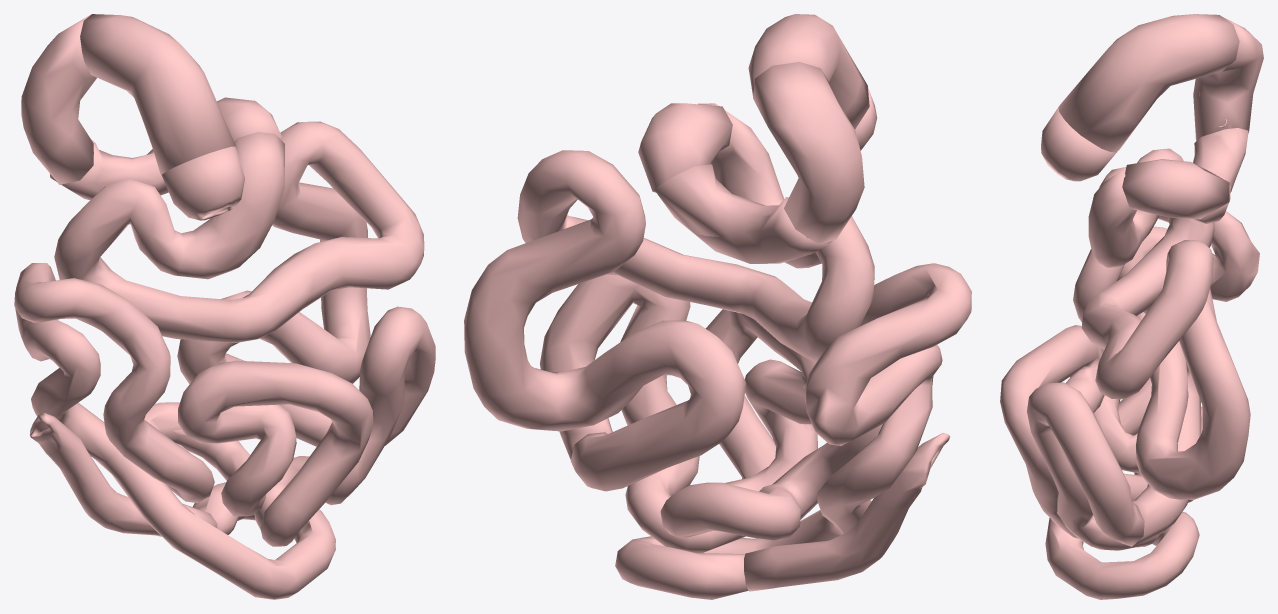
The model's file is vh_f_small_intestine-20.fbx.
3 views of the same model, side by side, from view 1: azimuth 30°, elevation 25°; view 2: azimuth 150°, elevation 25°; view 3: azimuth 270°, elevation 25° (orthographic). The views are drawn at different scales.
Visible parts, largest first — view 1: VH_F_ileum, VH_F_jejenum, VH_F_duodenum_superior, VH_F_duodenum_descending, VH_F_ileum_terminal, VH_F_duodenal_ampulla, VH_F_duodenum_horizontal, VH_F_duodenum_ascending; view 2: VH_F_ileum, VH_F_jejenum, VH_F_duodenum_descending, VH_F_ileum_terminal, VH_F_duodenum_horizontal, VH_F_duodenum_superior, VH_F_duodenum_ascending; view 3: VH_F_jejenum, VH_F_ileum, VH_F_duodenum_superior, VH_F_duodenum_ascending, VH_F_duodenum_descending, VH_F_duodenal_ampulla, VH_F_duodenum_horizontal.
Boxes of the visible parts, left/top/right/bottom form: VH_F_ileum: left=14, top=263, right=435, bottom=599; VH_F_jejenum: left=54, top=121, right=424, bottom=446; VH_F_duodenum_superior: left=80, top=14, right=235, bottom=175; VH_F_duodenum_descending: left=21, top=14, right=96, bottom=184; VH_F_ileum_terminal: left=29, top=413, right=217, bottom=536; VH_F_duodenal_ampulla: left=162, top=146, right=244, bottom=220; VH_F_duodenum_horizontal: left=50, top=138, right=168, bottom=200; VH_F_duodenum_ascending: left=217, top=97, right=281, bottom=141; VH_F_ileum: left=540, top=263, right=971, bottom=599; VH_F_jejenum: left=464, top=103, right=874, bottom=491; VH_F_duodenum_descending: left=753, top=61, right=864, bottom=244; VH_F_ileum_terminal: left=744, top=433, right=950, bottom=591; VH_F_duodenum_horizontal: left=654, top=164, right=832, bottom=263; VH_F_duodenum_superior: left=748, top=14, right=869, bottom=129; VH_F_duodenum_ascending: left=638, top=103, right=732, bottom=192; VH_F_jejenum: left=1081, top=148, right=1250, bottom=545; VH_F_ileum: left=1000, top=167, right=1259, bottom=599; VH_F_duodenum_superior: left=1058, top=14, right=1239, bottom=152; VH_F_duodenum_ascending: left=1122, top=159, right=1229, bottom=219; VH_F_duodenum_descending: left=1193, top=14, right=1263, bottom=141; VH_F_duodenal_ampulla: left=1041, top=108, right=1117, bottom=181; VH_F_duodenum_horizontal: left=1191, top=128, right=1248, bottom=223.
Size of the model in its own units: 16.17 by 21.7 by 10.03.
